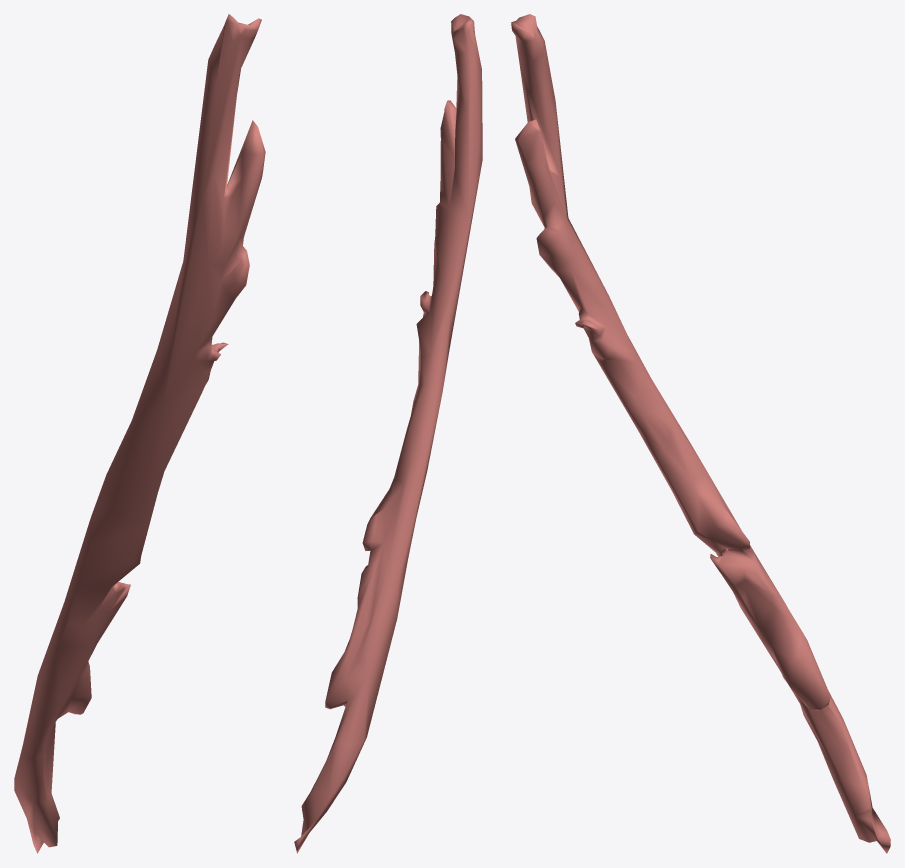
3 views of the same model, side by side, from view 1: azimuth 30°, elevation 25°; view 2: azimuth 150°, elevation 25°; view 3: azimuth 270°, elevation 25° (orthographic). The views are drawn at different scales.
Visible parts, largest first — view 1: ZA_a113e29caa5af3c9; view 2: ZA_a113e29caa5af3c9; view 3: ZA_a113e29caa5af3c9.
Part boxes in pixels (x1,y1,x2,y2): ZA_a113e29caa5af3c9: (14, 14, 265, 853); ZA_a113e29caa5af3c9: (294, 14, 482, 853); ZA_a113e29caa5af3c9: (511, 14, 890, 853).
Bounding box in the file's own units: 0.00792 × 0.1058 × 0.0438.
